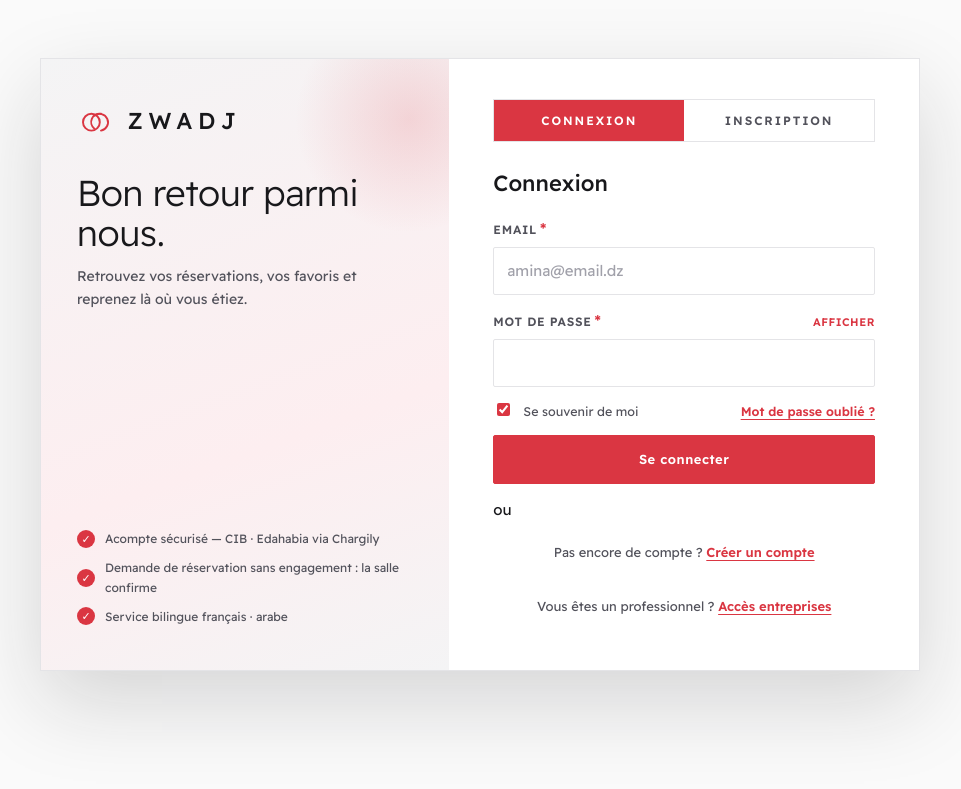
Test: LoginForm (fr) › 401 INVALID_CREDENTIALS : le message traduit de la clé PARTAGÉE s'affiche
Type "aya@example.dz" into the field labelled "Email" at (684, 272), box [493,248,875,296]
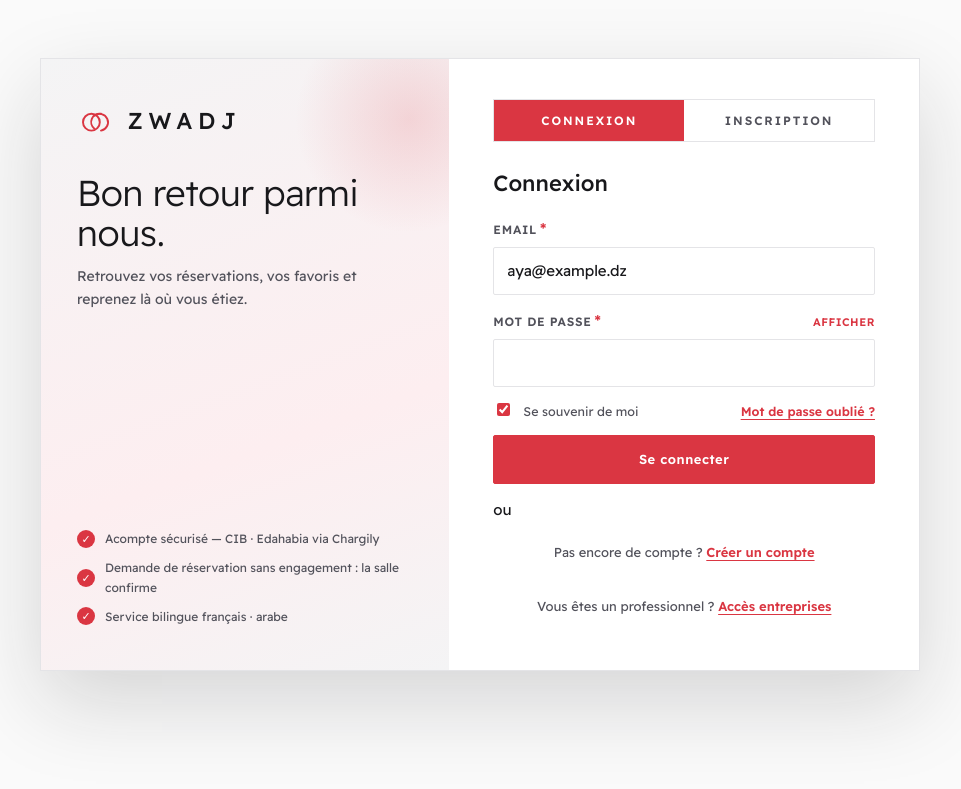
Type "Mauvaismdp9" into the password field labelled "Mot de passe" at (684, 364), box [493,340,875,388]
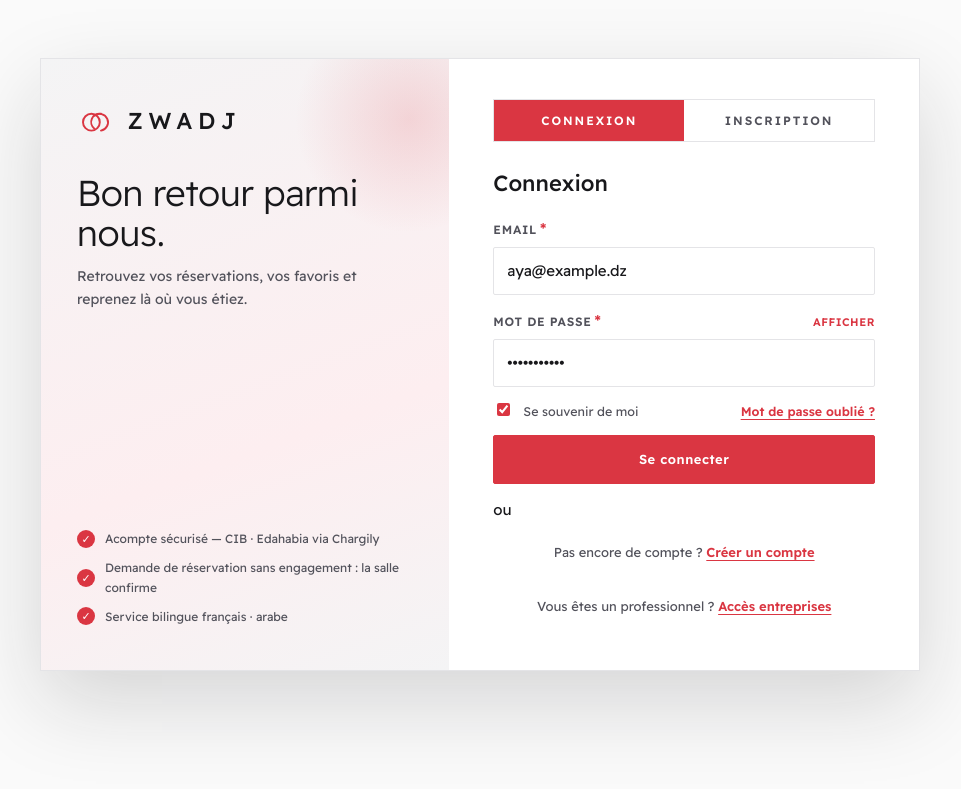
Click the button "Se connecter" at (684, 460), box [493,436,875,484]
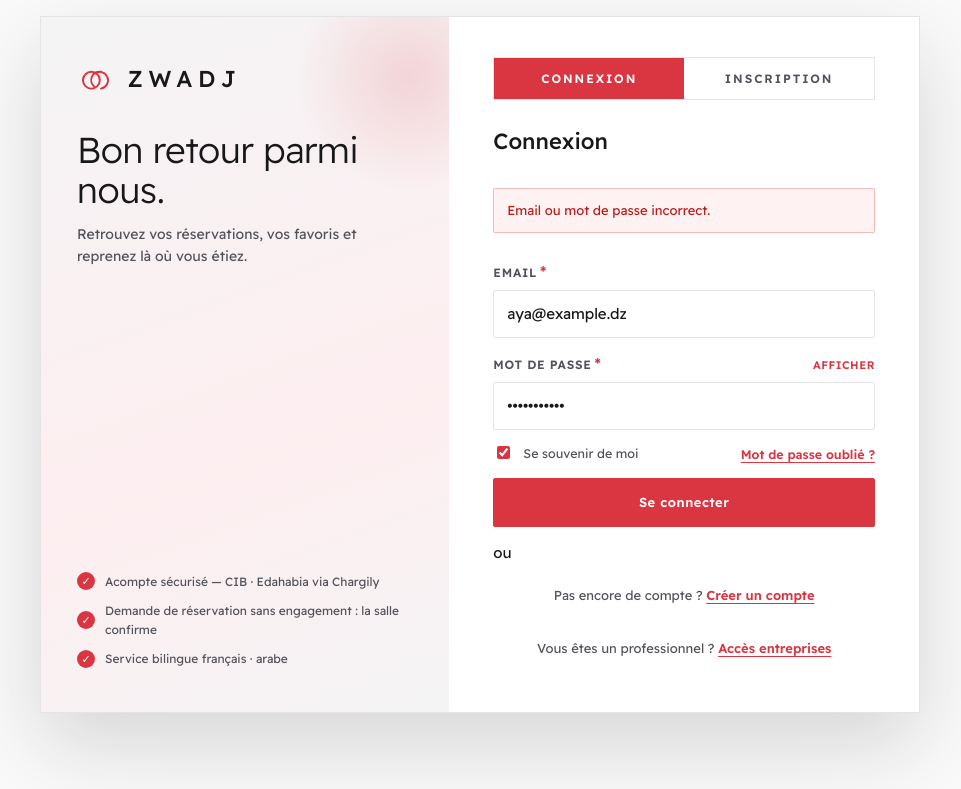
expect the text "Email ou mot de passe incorrect." is shown: met, box [493,188,875,233]
